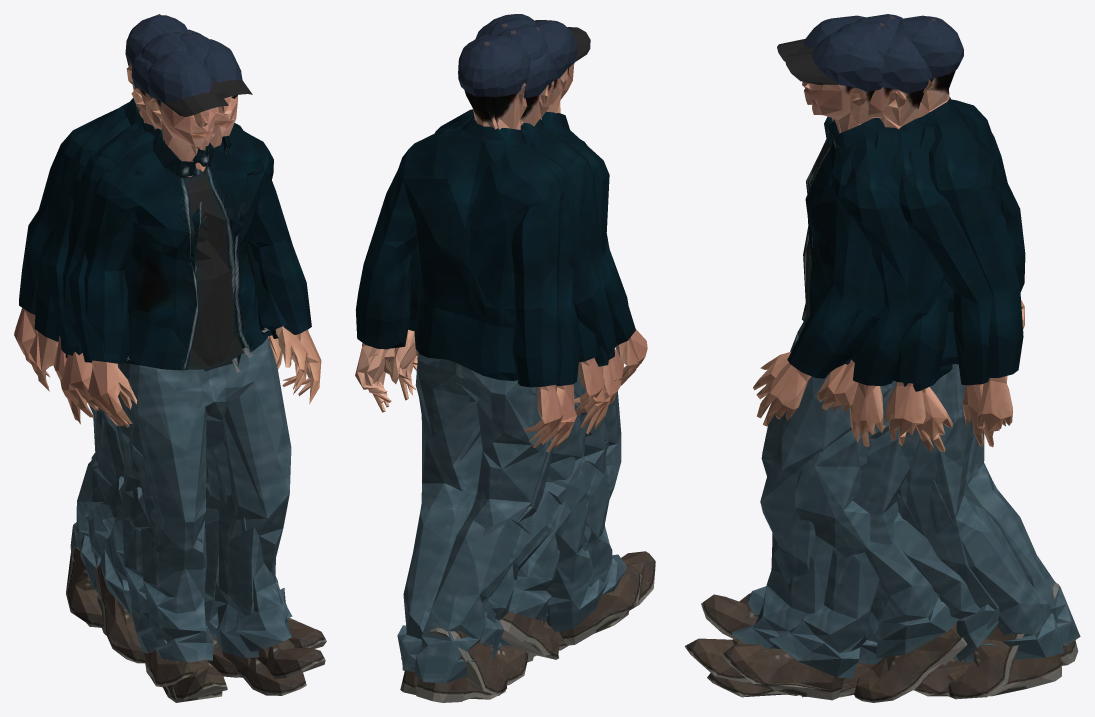
Rendered from walk-tyrone.glb.
3 renders of one model, left to right at view 1: azimuth 30°, elevation 25°; view 2: azimuth 150°, elevation 25°; view 3: azimuth 270°, elevation 25°, orthographic. The views are drawn at different scales.
Parts seen in each view (by area): view 1: f7, f3, f6, f2, f5, f4, f1, f0; view 2: f5, f1, f2, f6, f4, f3, f7, f0; view 3: f1, f3, f2, f0, f7, f5, f6, f4.
Part boxes in pixels (left/top/right/bottom): f7: left=60, top=50, right=321, bottom=702; f3: left=66, top=38, right=306, bottom=695; f6: left=29, top=53, right=307, bottom=701; f2: left=68, top=29, right=325, bottom=678; f5: left=14, top=19, right=282, bottom=687; f4: left=54, top=32, right=239, bottom=677; f1: left=45, top=14, right=326, bottom=648; f0: left=60, top=31, right=234, bottom=473; f5: left=415, top=37, right=641, bottom=645; f1: left=355, top=35, right=623, bottom=700; f2: left=365, top=34, right=647, bottom=702; f6: left=397, top=52, right=655, bottom=694; f4: left=441, top=17, right=606, bottom=659; f3: left=394, top=14, right=638, bottom=695; f7: left=401, top=20, right=628, bottom=659; f0: left=394, top=24, right=621, bottom=662; f1: left=722, top=16, right=1023, bottom=700; f3: left=707, top=31, right=1058, bottom=697; f2: left=684, top=34, right=1080, bottom=695; f0: left=795, top=14, right=967, bottom=702; f7: left=733, top=15, right=1024, bottom=699; f5: left=739, top=15, right=1025, bottom=696; f6: left=701, top=256, right=1063, bottom=696; f4: left=797, top=20, right=906, bottom=697.
Bounding box in the file's own units: 0.3582 × 1 × 0.5465.
5 materials, 5 textured.
